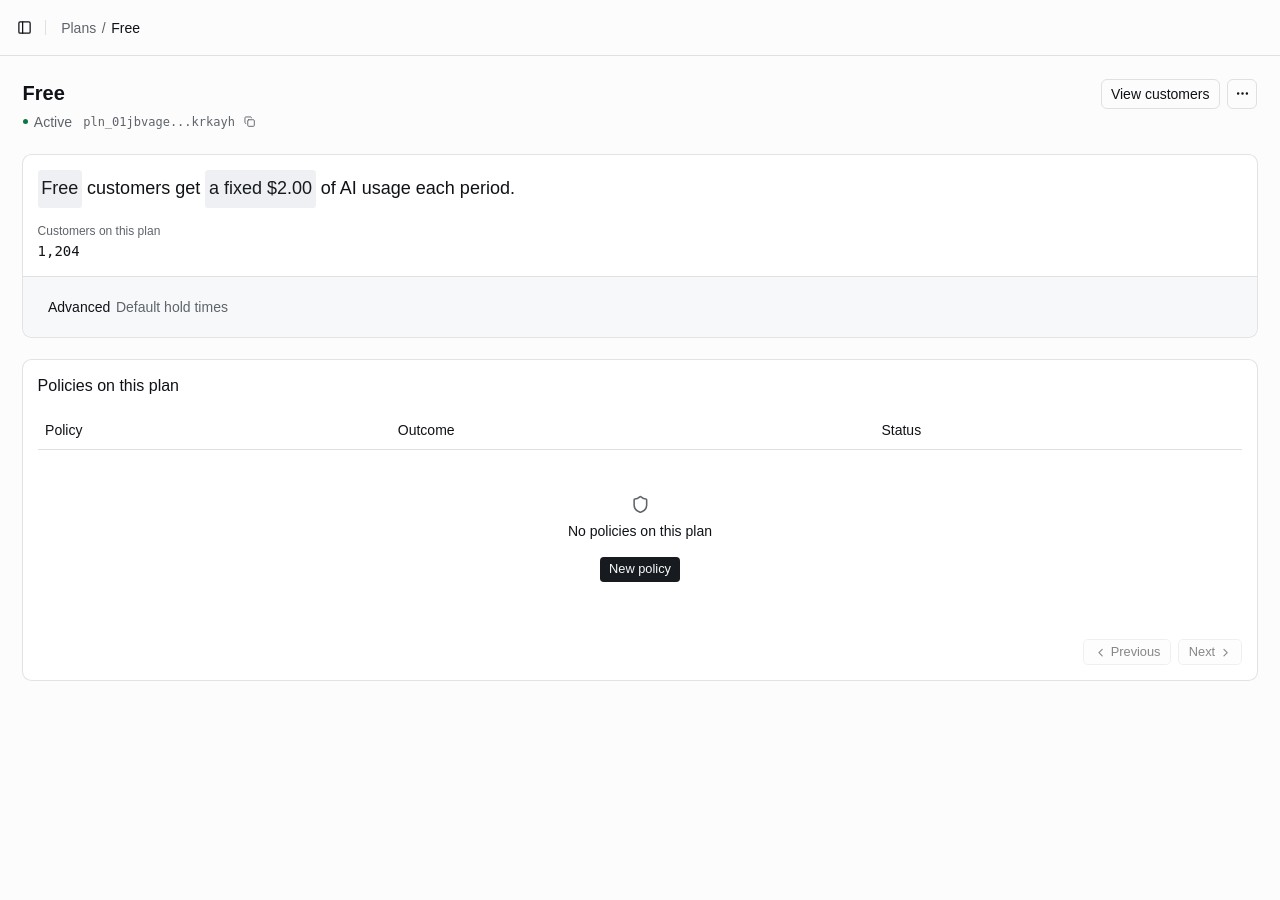
Test: switching back to margin target shows the stored target margin and sends the mode
The image size is (1280, 900).
Expected: the heading "Free" is shown, [22,82,65,104]
Click the button "a fixed $2.00" at (260, 189), box [205,170,316,208]
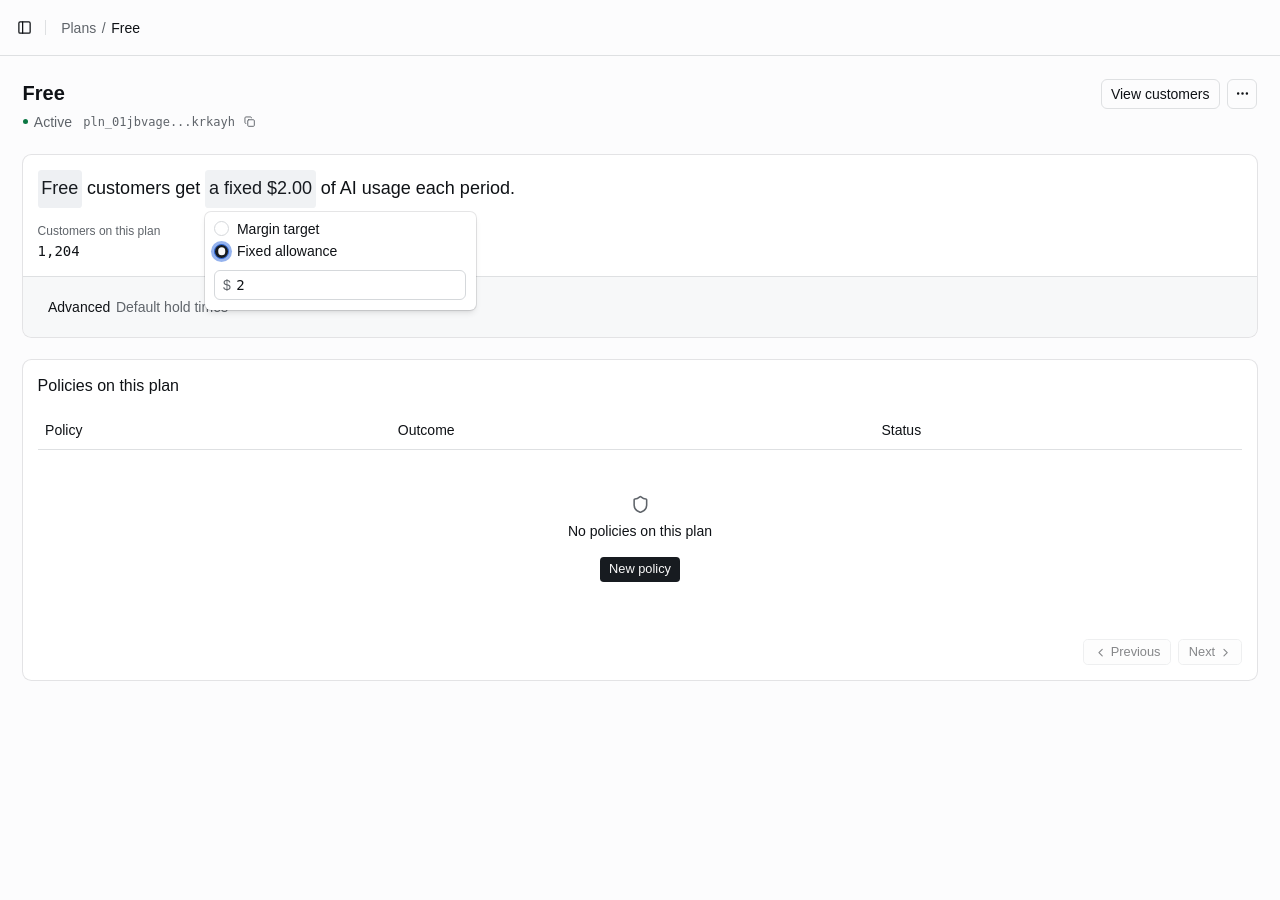
Click the radio button named "Margin target" next to "Margin target" at (222, 229), box [214,221,229,236]
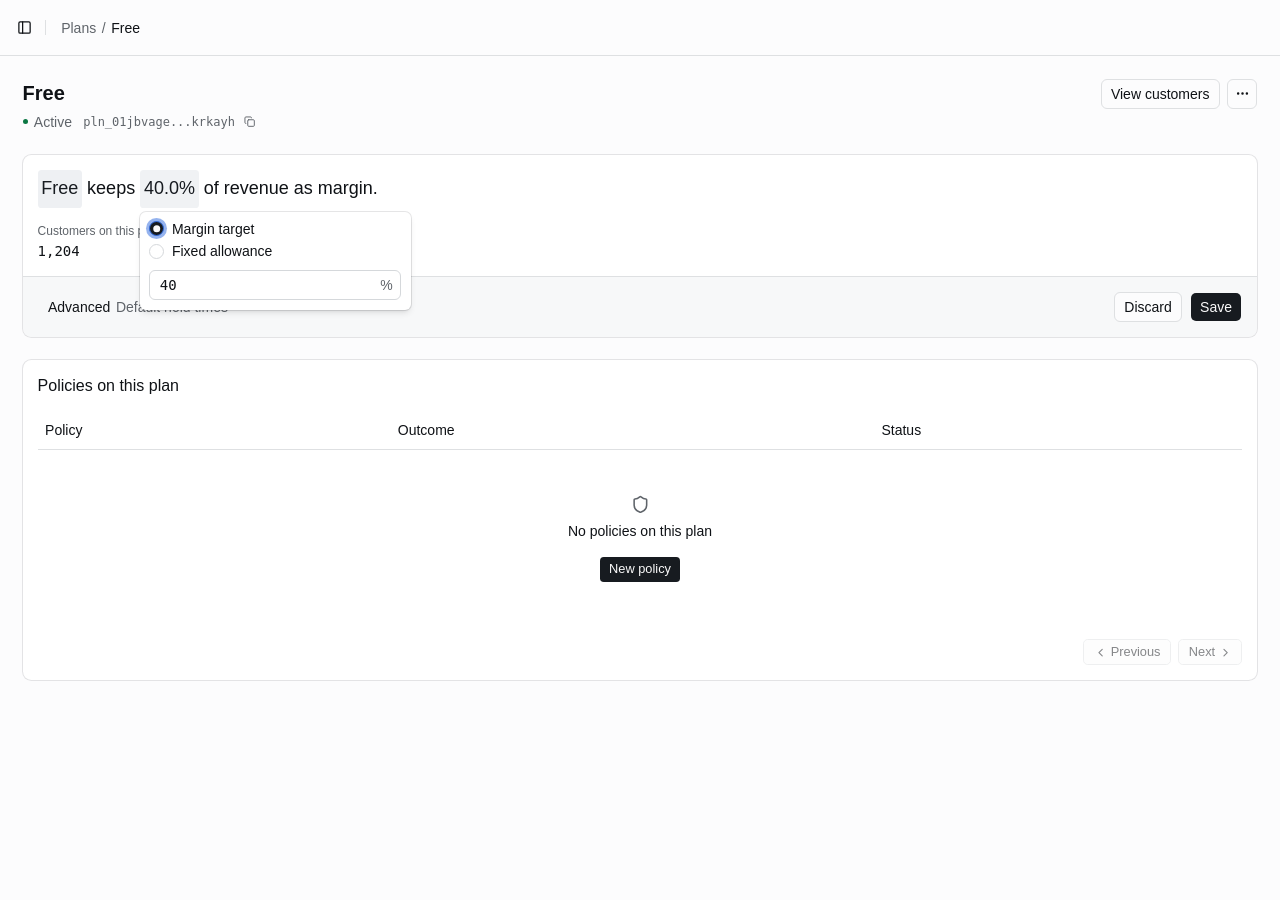
Expected: the field named "Target margin" holds "40", [150,270,380,300]
Press Escape
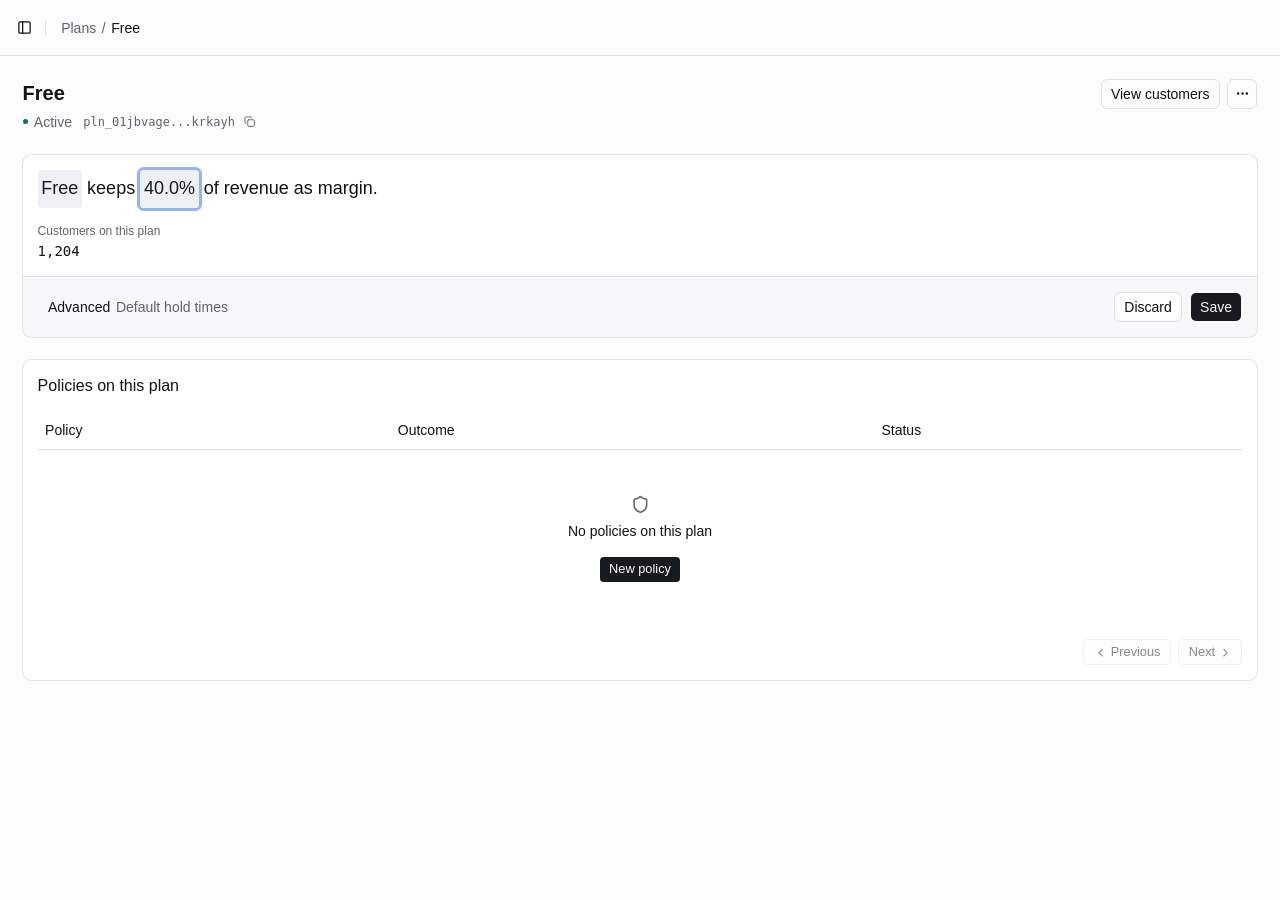
Expected: the element showing "Free keeps 40.0% of revenue as margin." is shown, [38,170,378,208]
Click the button "Save" at (1216, 307), box [1190,292,1242,322]
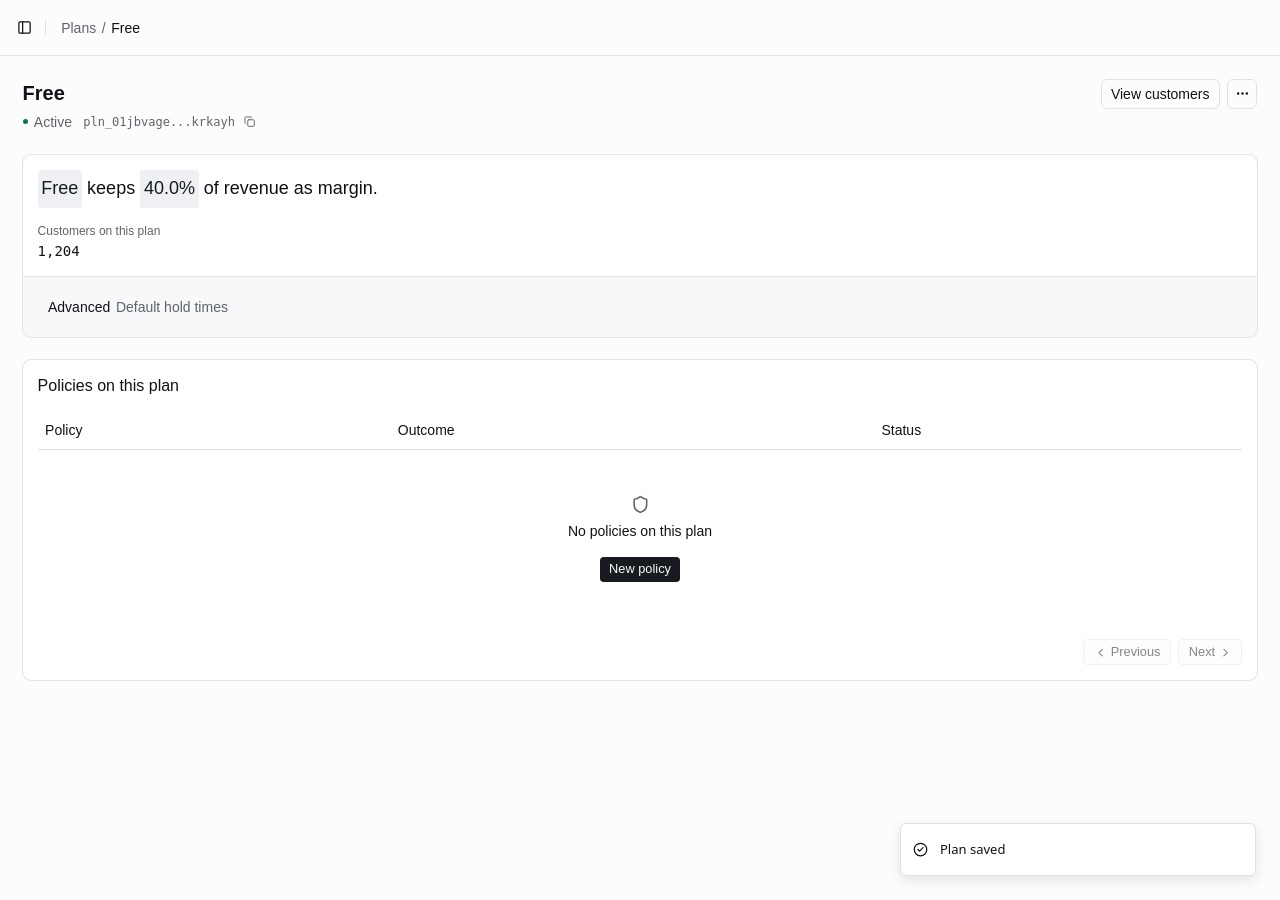
Expected: the text "Plan saved" is shown, [940,840,1005,859]
